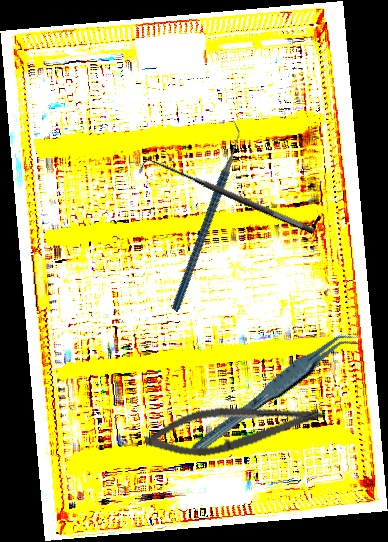Chopper: (115, 118, 294, 313)
Hook Surgical: (137, 150, 316, 248)
Micro Scissor: (141, 384, 327, 469)
Tissue Forceps: (178, 326, 369, 457)
